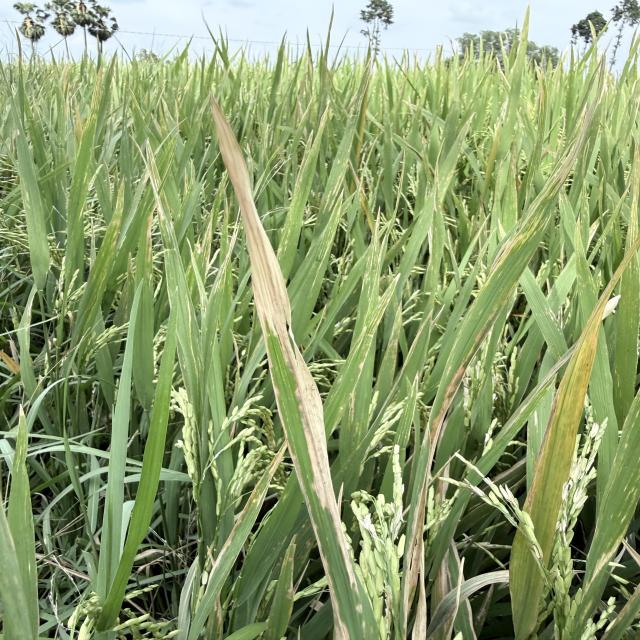Chay bia la: (209, 96, 352, 591)
